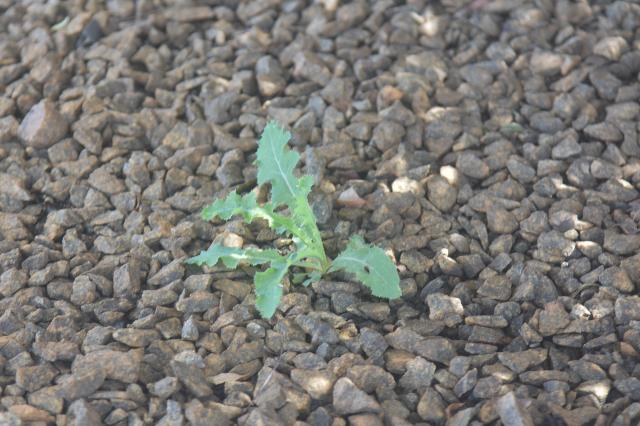MalezaMontesDelPlata: (180, 116, 403, 324)
